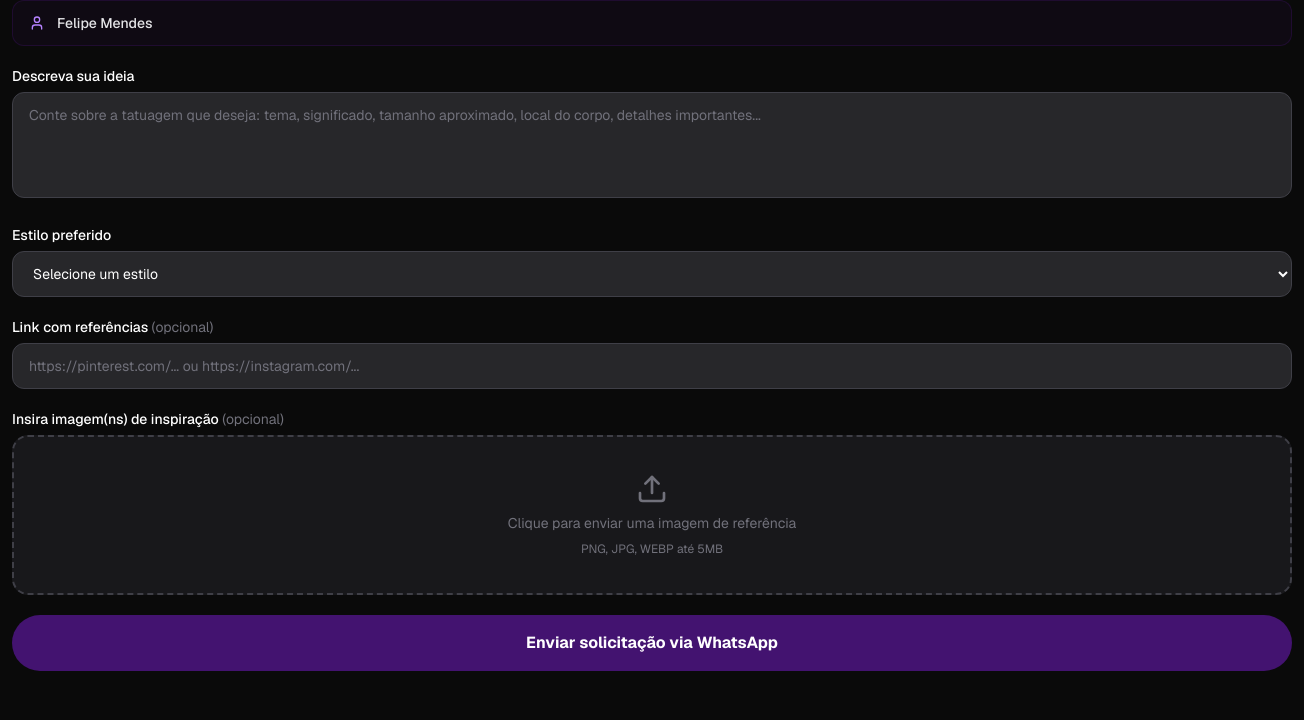
Scenario: CustomOrderForm › exibe erro se enviar com campos vazios
What coordinates should you click on to do the following:
click the button "Enviar solicitação via WhatsApp"
I would click on:
 (652, 643)
Its box is [12,615,1292,671].
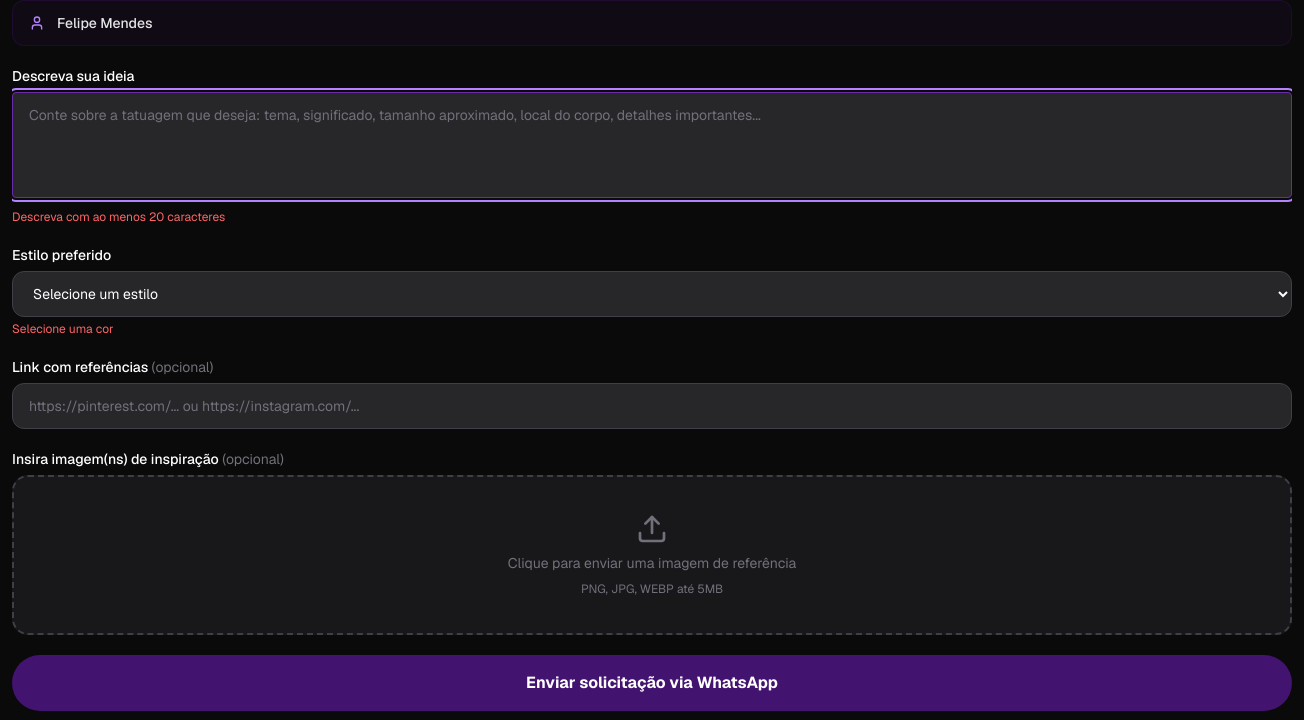
Expected: the message "Descreva com ao menos 20 caracteres" is shown, [12,209,225,225]
